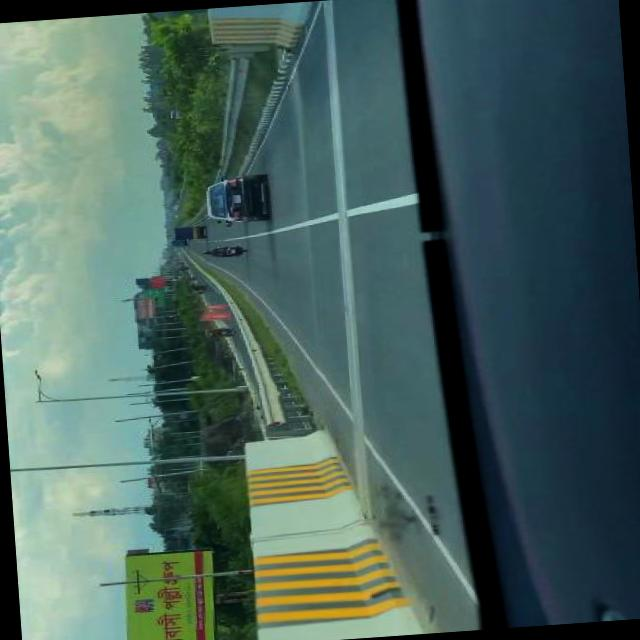car: (203, 172, 270, 228)
motorcycle: (199, 244, 244, 258), (204, 326, 233, 338)
truck: (172, 225, 205, 241), (168, 240, 184, 247)
